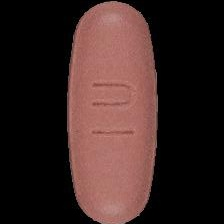0078-0486: (0, 0, 224, 224)
